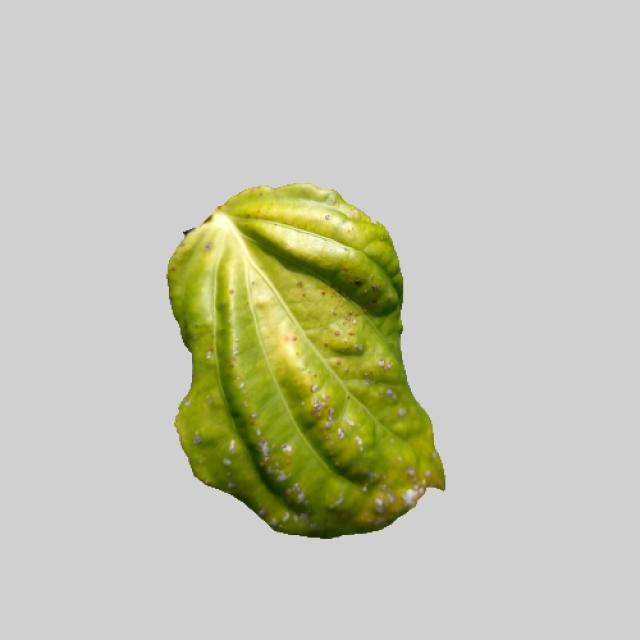yellow-mottle-virus: (156, 176, 446, 534)
